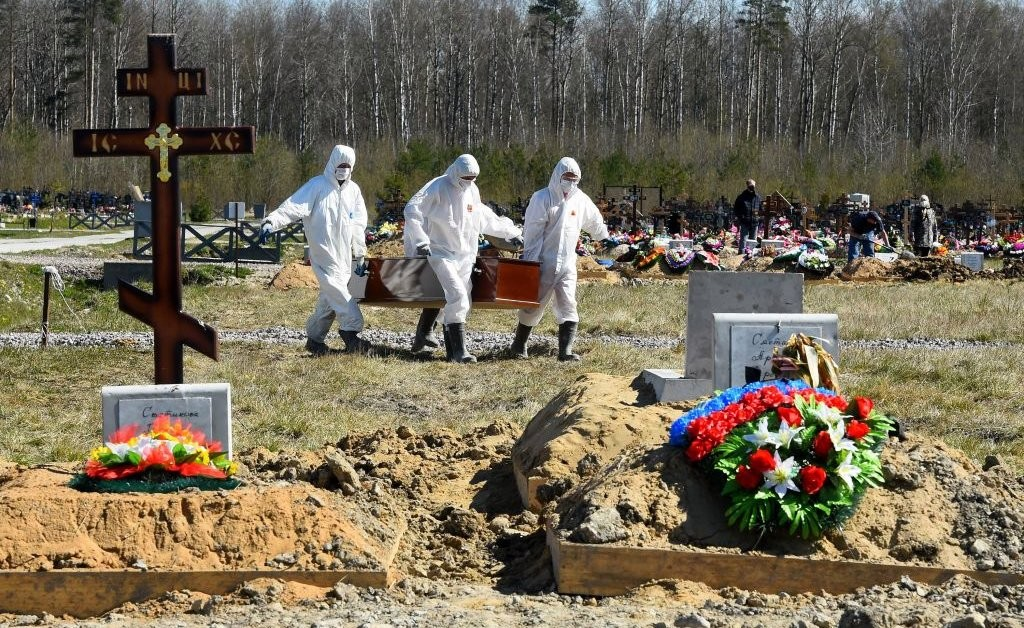Coverall: (275, 143, 374, 337), (404, 152, 504, 334), (513, 152, 612, 329)
